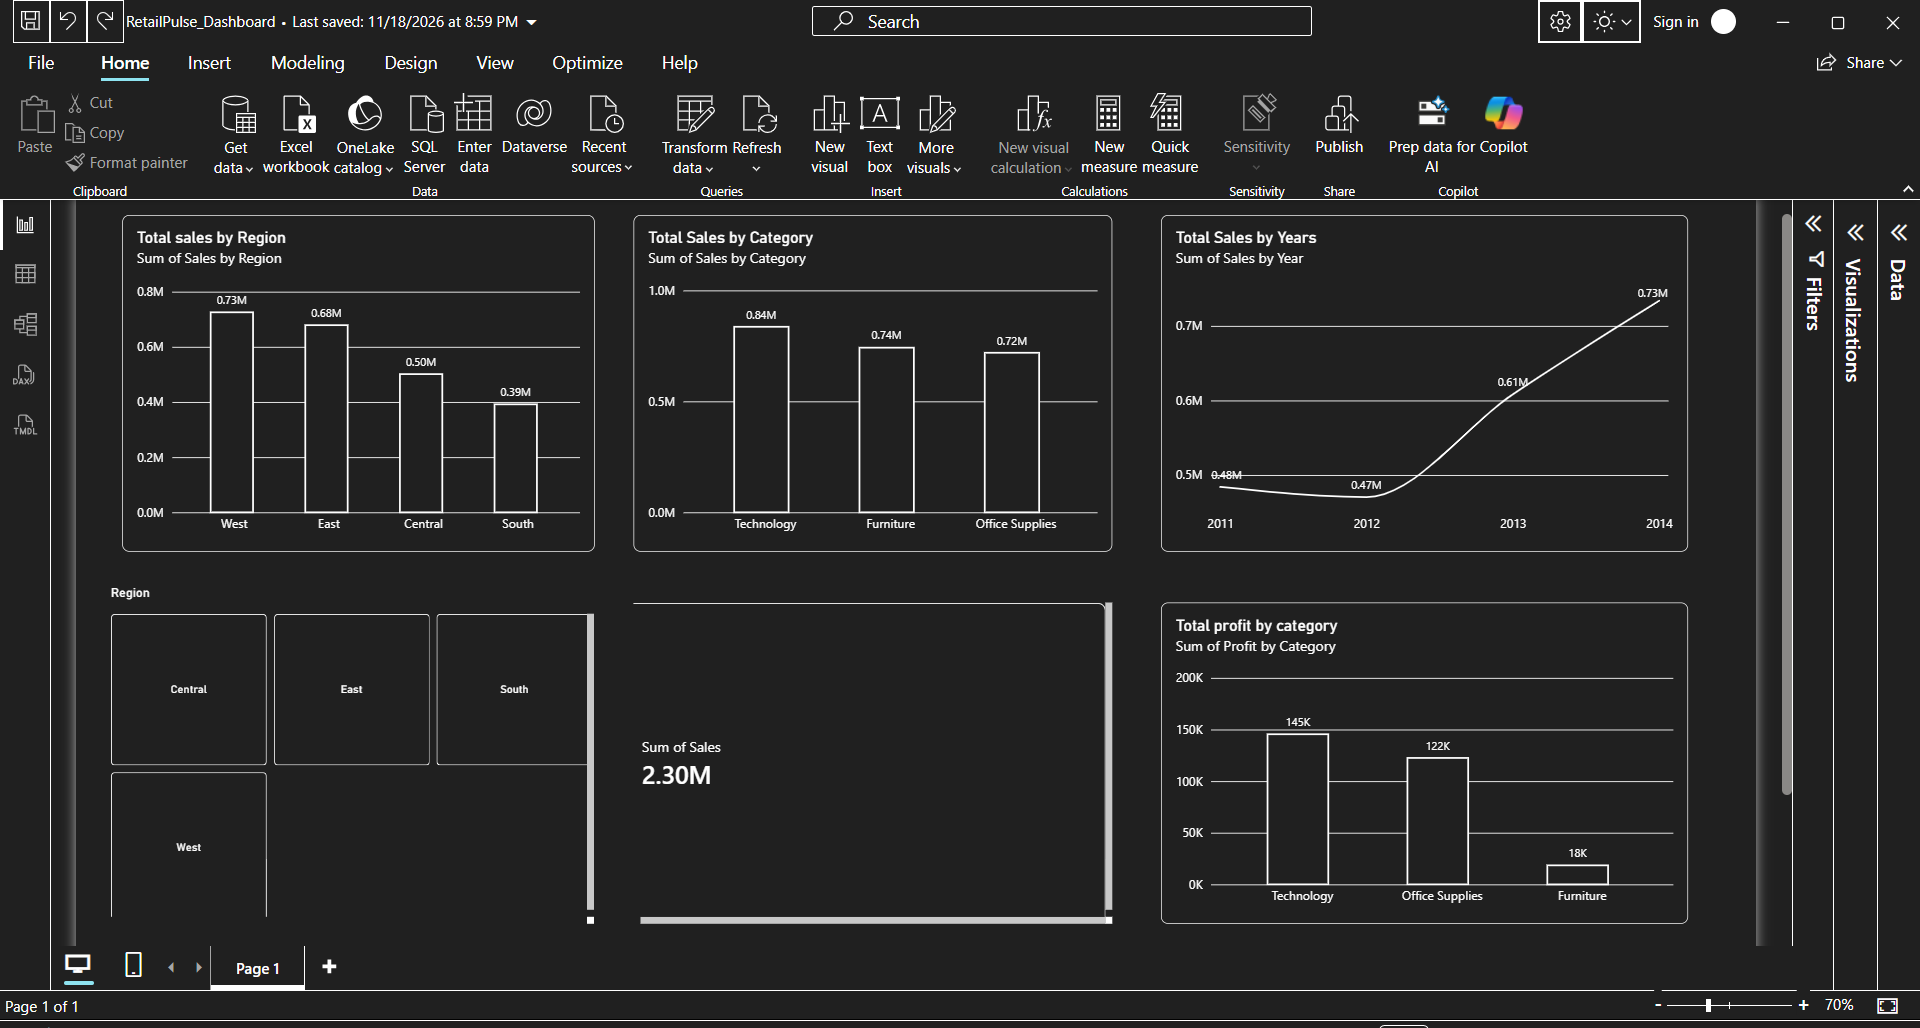

This screenshot's page, from the dashboard's own definition file:
{"tool":"powerbi","page":{"name":"Page 1","canvas":[1920,1080],"ordinal":0},"visuals":[{"type":"clusteredColumnChart","title":"Total sales by Region","fields":{"Category":["Superstore.Region"],"Y":["Sum(Superstore.Sales)"]},"box":[52.5,22.5,540,385],"z":0},{"type":"clusteredColumnChart","title":"Total Sales by Category","fields":{"Category":["Superstore.Category"],"Y":["Sum(Superstore.Sales)"]},"box":[637.5,22.5,547.5,385],"z":1},{"type":"lineChart","title":"Total Sales by Years","fields":{"Category":["Superstore.Order Date.Variation.Date Hierarchy.Year"],"Y":["Sum(Superstore.Sales)"]},"box":[1240,22.5,602.5,385],"z":2},{"type":"advancedSlicerVisual","fields":{"Values":["Superstore.Region"]},"box":[40,445,552.5,387.5],"z":3},{"type":"cardVisual","fields":{"Data":["Sum(Superstore.Sales)"]},"box":[637.5,465,547.5,367.5],"z":4},{"type":"clusteredColumnChart","title":"Total profit by category","fields":{"Category":["Superstore.Category"],"Y":["Sum(Superstore.Profit)"]},"box":[1239.6,465.1,602.6,367.4],"z":5}]}

Visuals, with their boxes on the page's 1920x1080 design canvas (x1, y1, x2, y2). These are canvas units, not pixel positions in the 1920x1028 screenshot, which may show the page scaled, cropped or inside an application window:
"Total sales by Region" clusteredColumnChart: [left=52, top=22, right=592, bottom=408]
"Total Sales by Category" clusteredColumnChart: [left=638, top=22, right=1185, bottom=408]
"Total Sales by Years" lineChart: [left=1240, top=22, right=1842, bottom=408]
advancedSlicerVisual - Superstore.Region: [left=40, top=445, right=592, bottom=832]
cardVisual - Sum(Superstore.Sales): [left=638, top=465, right=1185, bottom=832]
"Total profit by category" clusteredColumnChart: [left=1240, top=465, right=1842, bottom=832]
